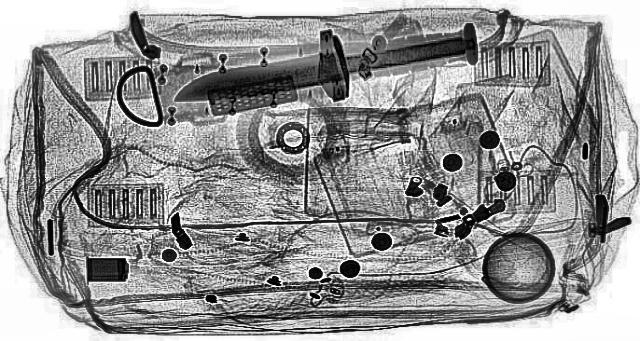Knife: (137, 0, 507, 128)
